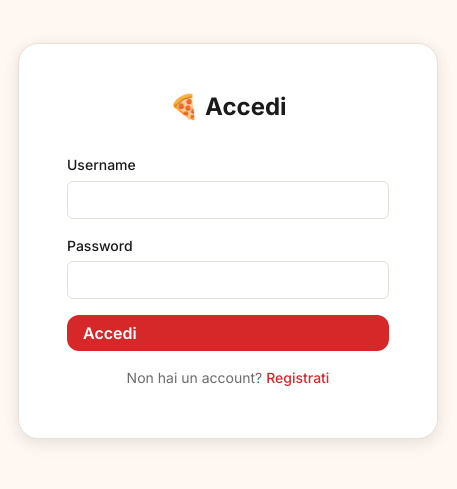
Test: LoginPage › shows error message on login failure
Type "x" into the field labelled "Username" at (228, 200), box [67,181,389,219]
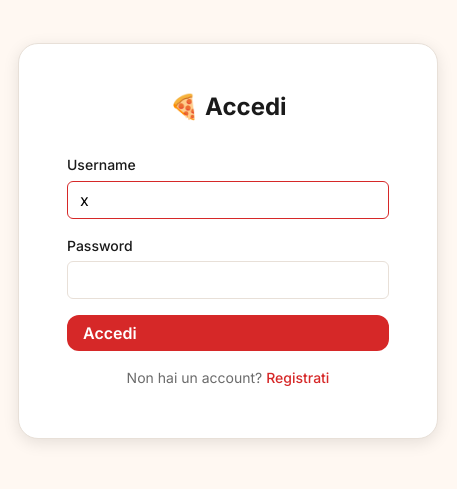
Type "y" into the password field labelled "Password" at (228, 280), box [67,261,389,299]
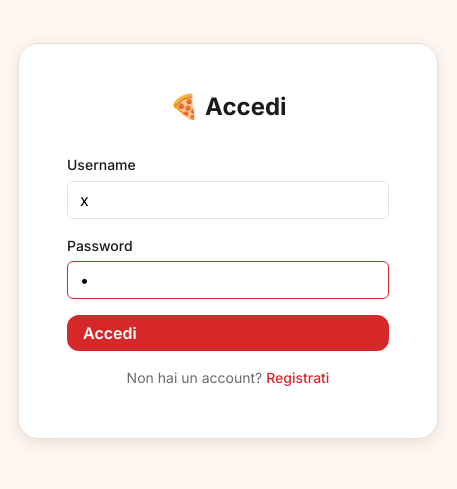
Click the button "Accedi" at (110, 333), box [67,315,389,351]
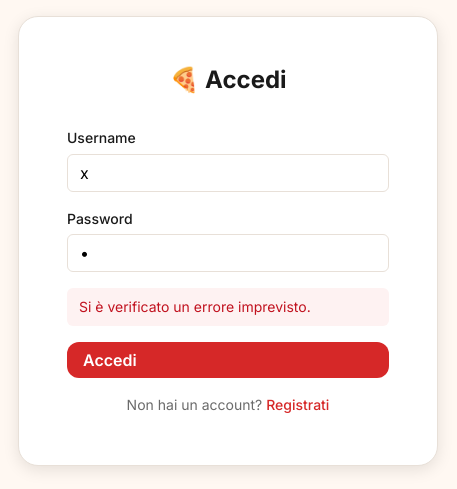
Expected: the text "Si è verificato un errore imprevisto." is shown, [67,288,389,326]
